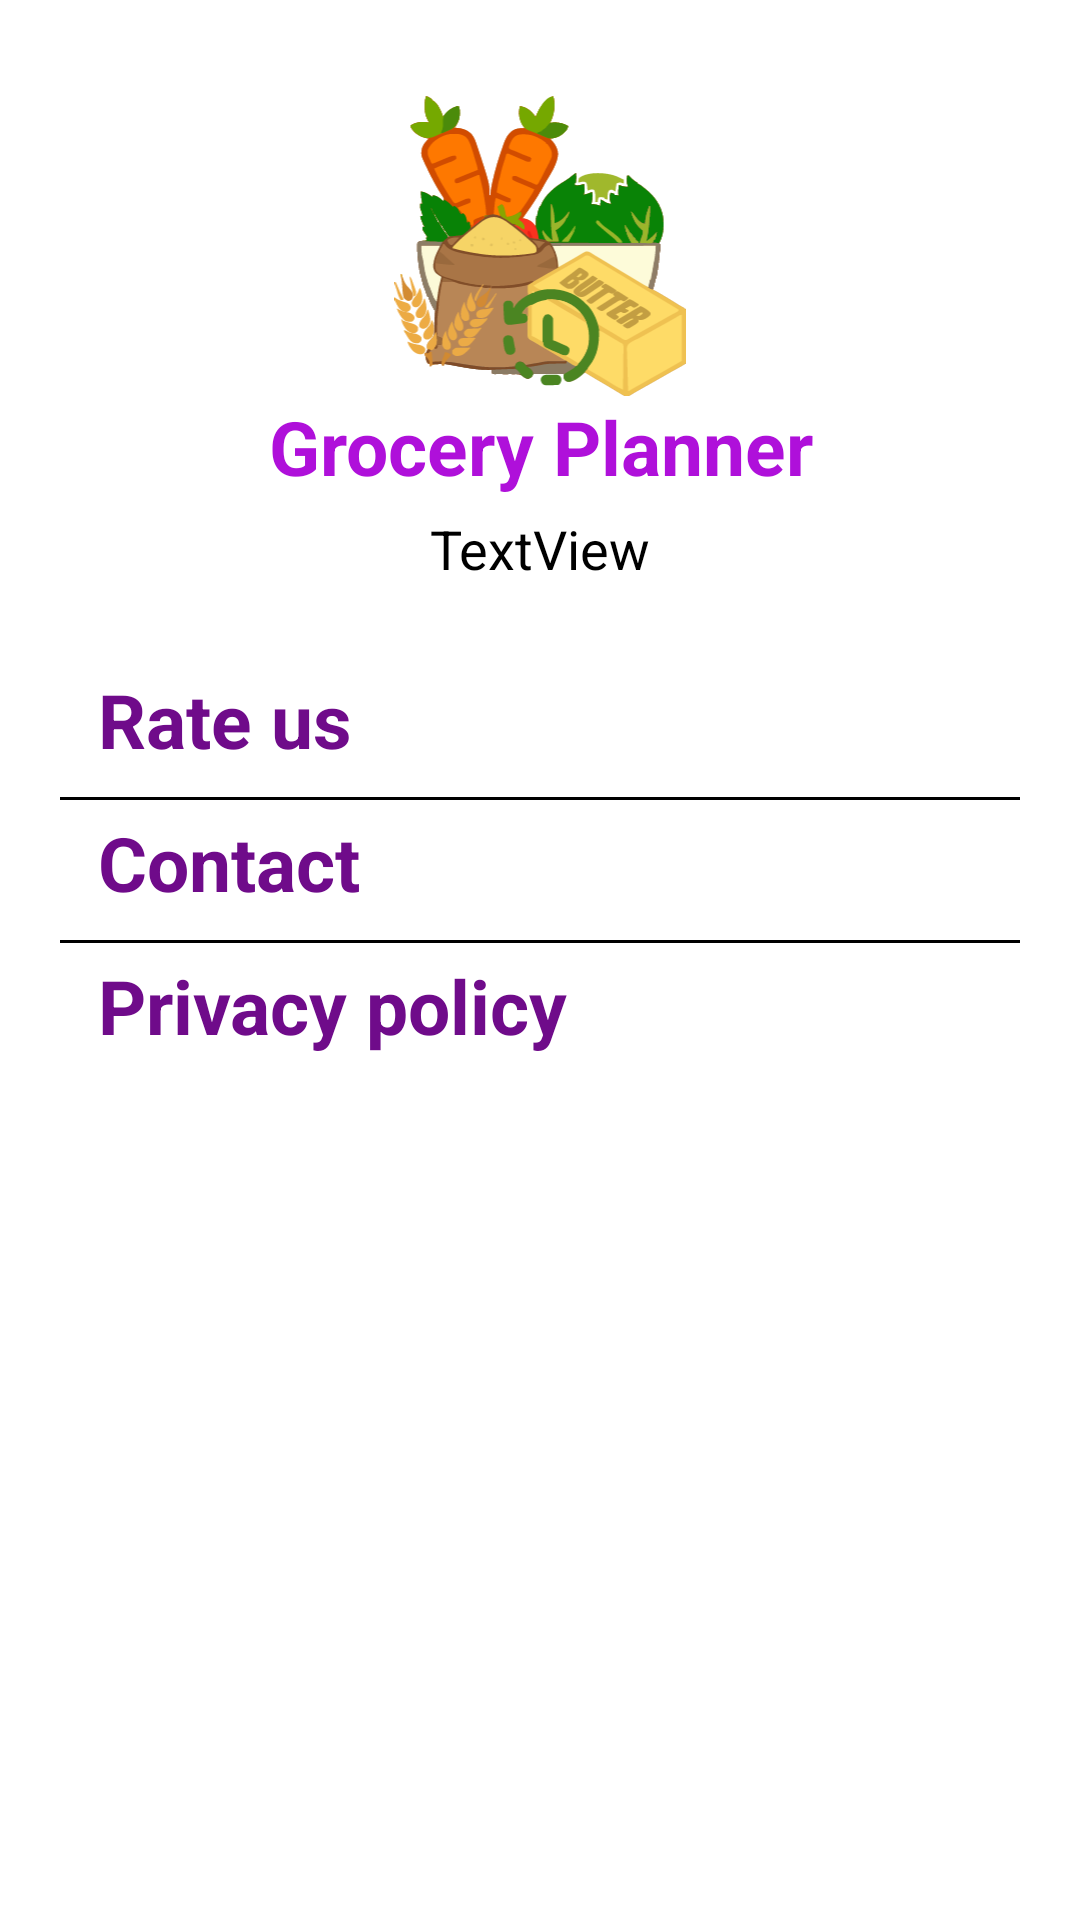

Point at icon controls on the screen. Image size 1080px×1920px, points as (x,y).
app: (540,246)
